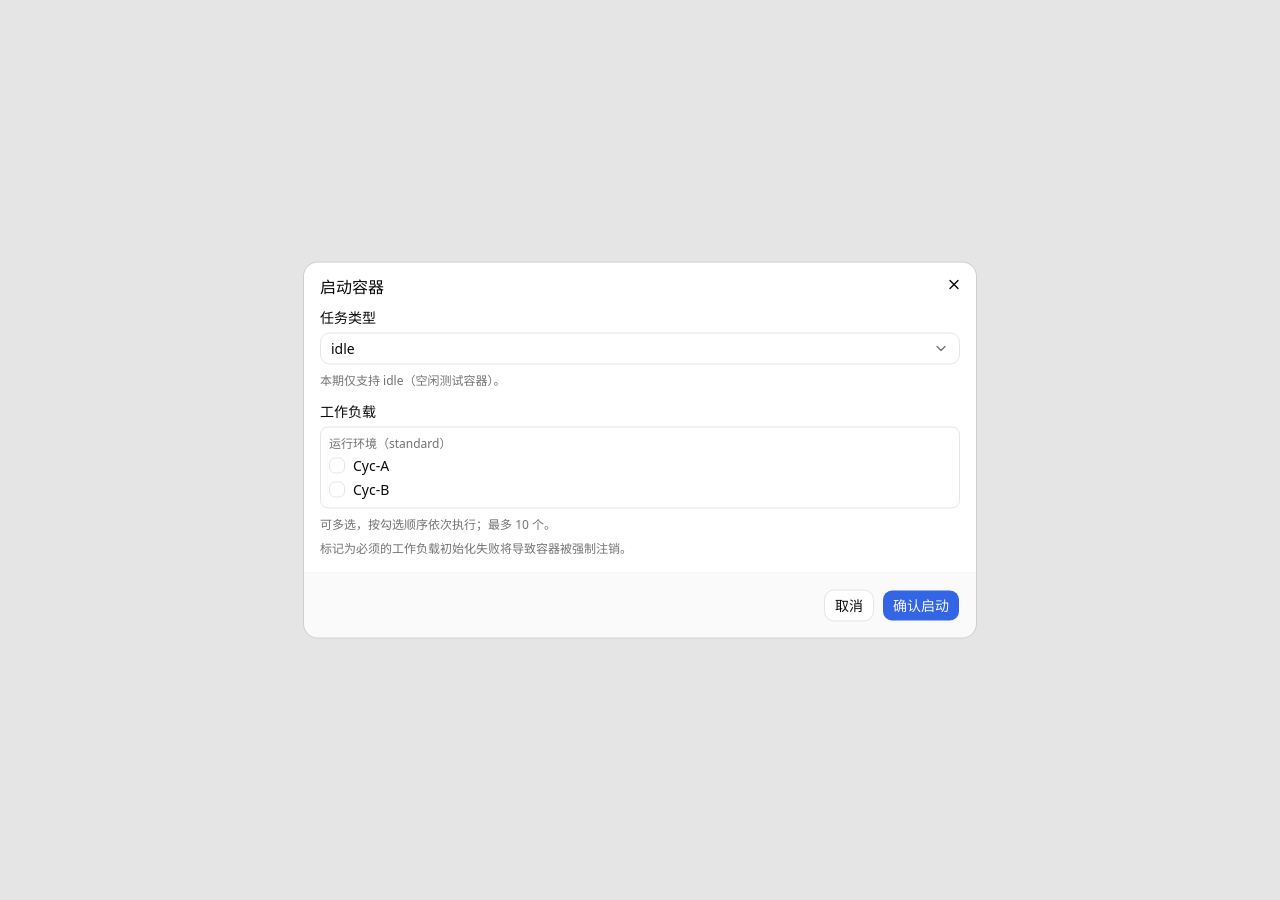
Test case: StartContainerDialog (T-FP5/T-FP6/T-FP7) › T-FP6: blocks starting on a dependency cycle
Click the checkbox named "Cyc-A" at [337, 466], box [329,458,345,474]
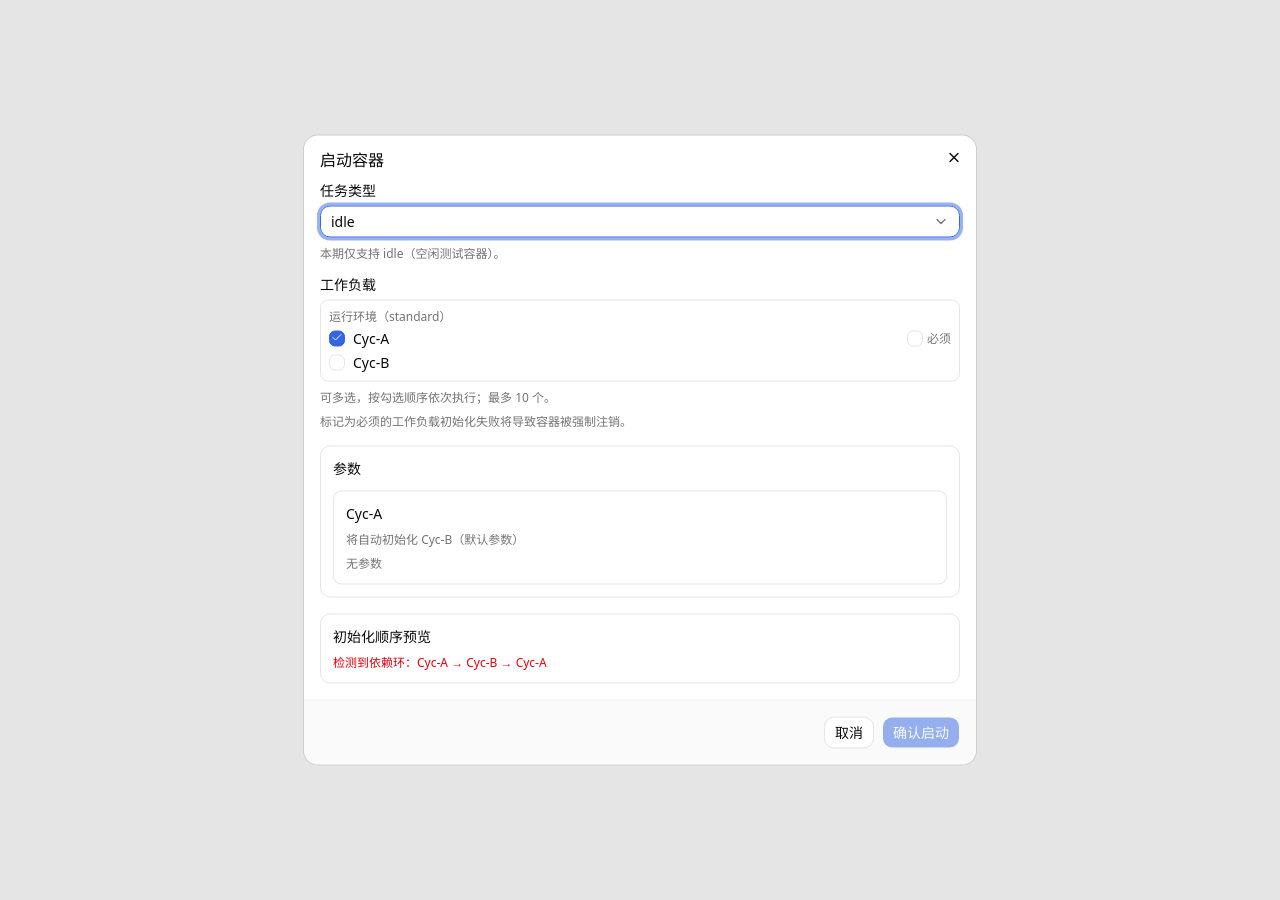
Now the text "检测到依赖环：Cyc-A → Cyc-B → Cyc-A" is shown, box [333,654,547,670]
Now the button "确认启动" is disabled, box [882,716,960,748]
